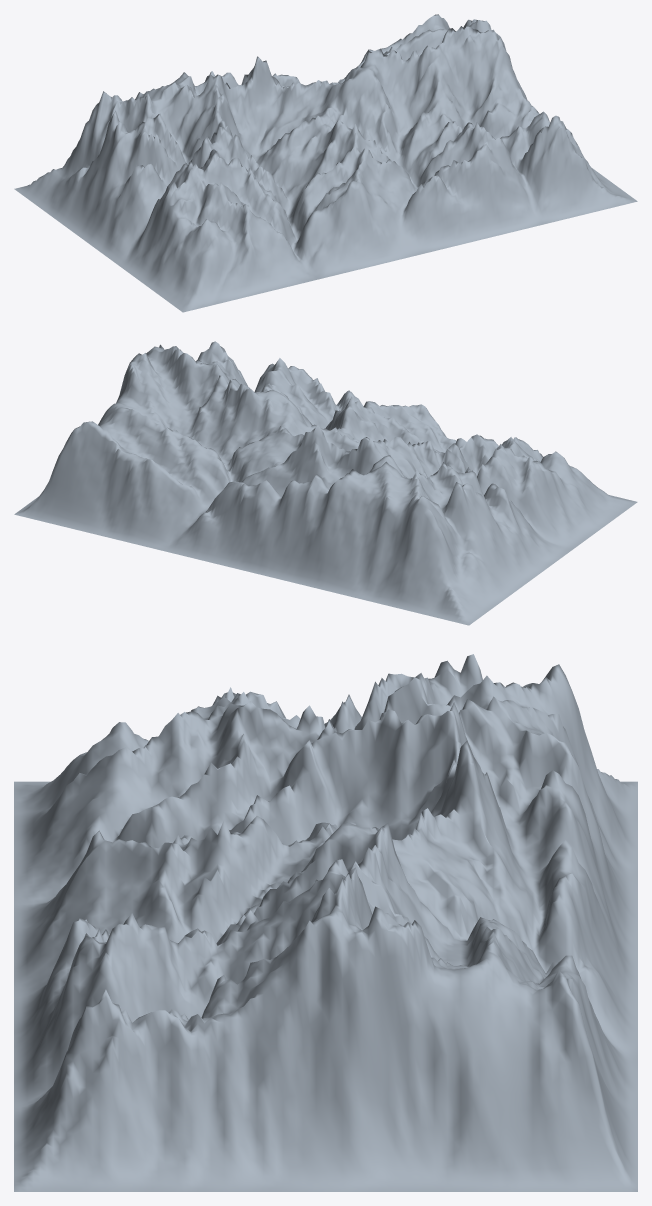
Rendered from matterhorn-ridge-lod-compressed.glb.
3 renders of one model, top to bottom at view 1: azimuth 30°, elevation 25°; view 2: azimuth 150°, elevation 25°; view 3: azimuth 270°, elevation 25°, orthographic. The views are drawn at different scales.
Visible parts, largest first — view 1: matterhorn-ridge-lod; view 2: matterhorn-ridge-lod; view 3: matterhorn-ridge-lod.
Part boxes in pixels (box(x1,y1,x2,y2)): matterhorn-ridge-lod: box(14, 14, 637, 312); matterhorn-ridge-lod: box(14, 341, 637, 625); matterhorn-ridge-lod: box(14, 654, 637, 1191).
Size of the model in its own units: 112 by 30.64 by 72.
